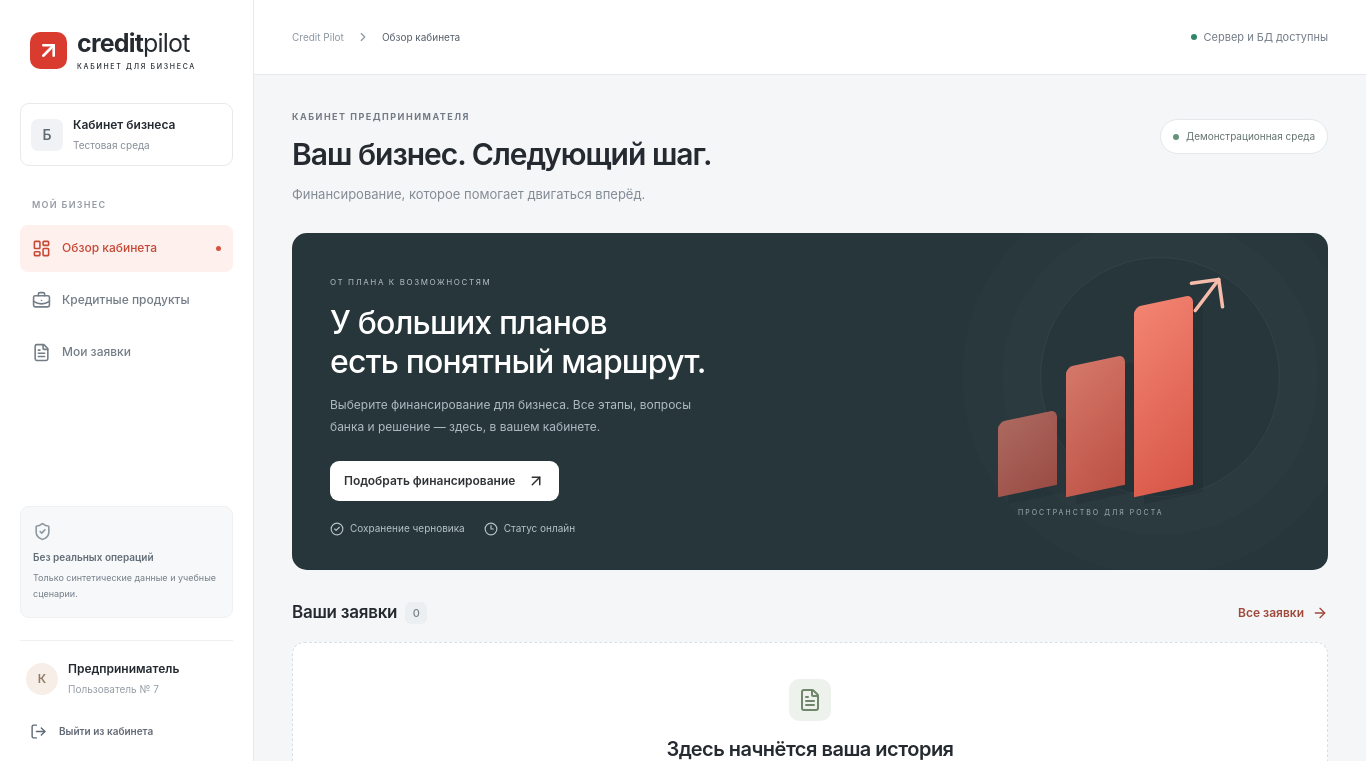
Test: серверная сессия и навигация › восстанавливает кабинет через /me и отправляет сохранённый CSRF при выходе
Expected: the navigation bar is shown, [20,224,233,376]
Click the button "Выйти из кабинета" at point(126, 731), box [20,711,233,751]
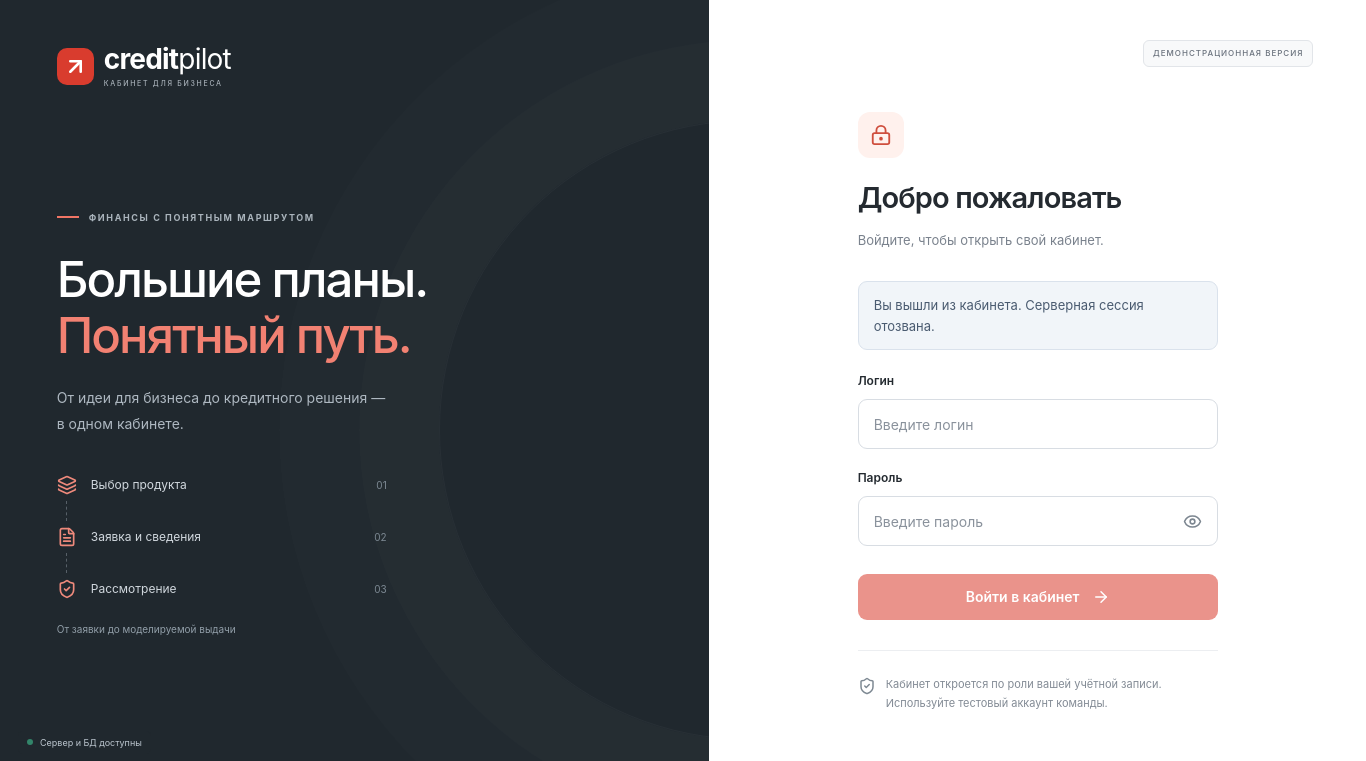
Expected: the field labelled "Логин" is shown, [858,400,1218,450]
